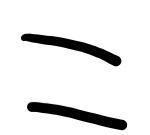eqv: (21, 33, 127, 130)
